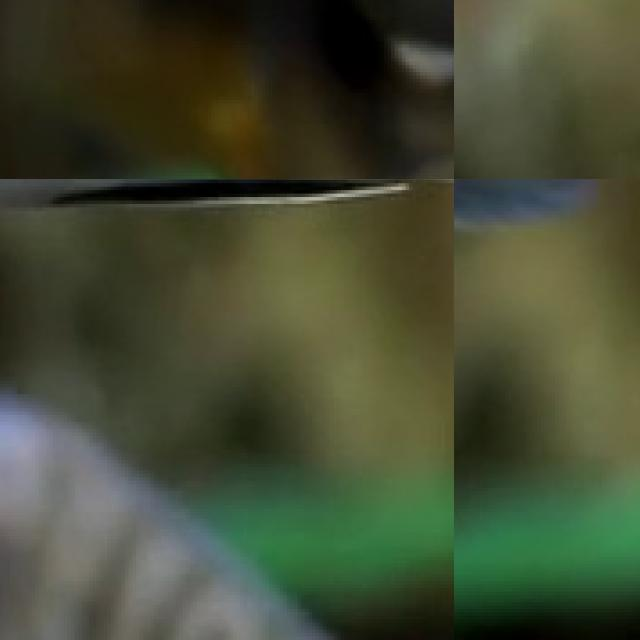fish: (0, 397, 454, 640), (0, 0, 454, 179), (454, 179, 640, 277)
